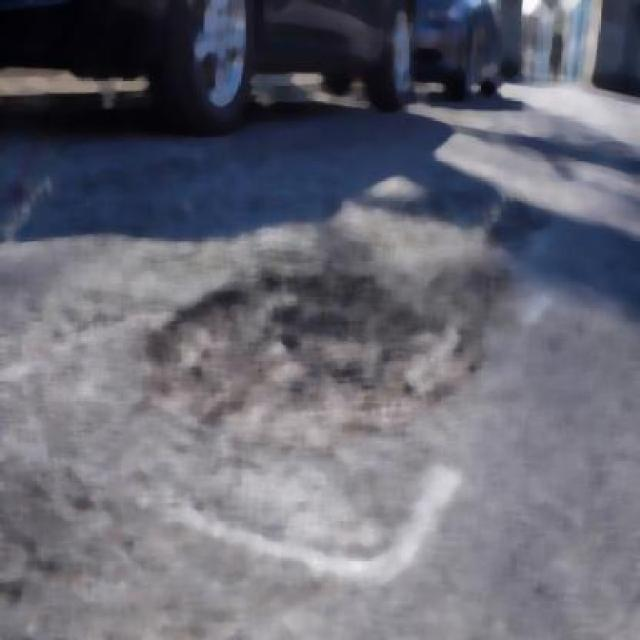Pothole: (185, 205, 463, 453)
